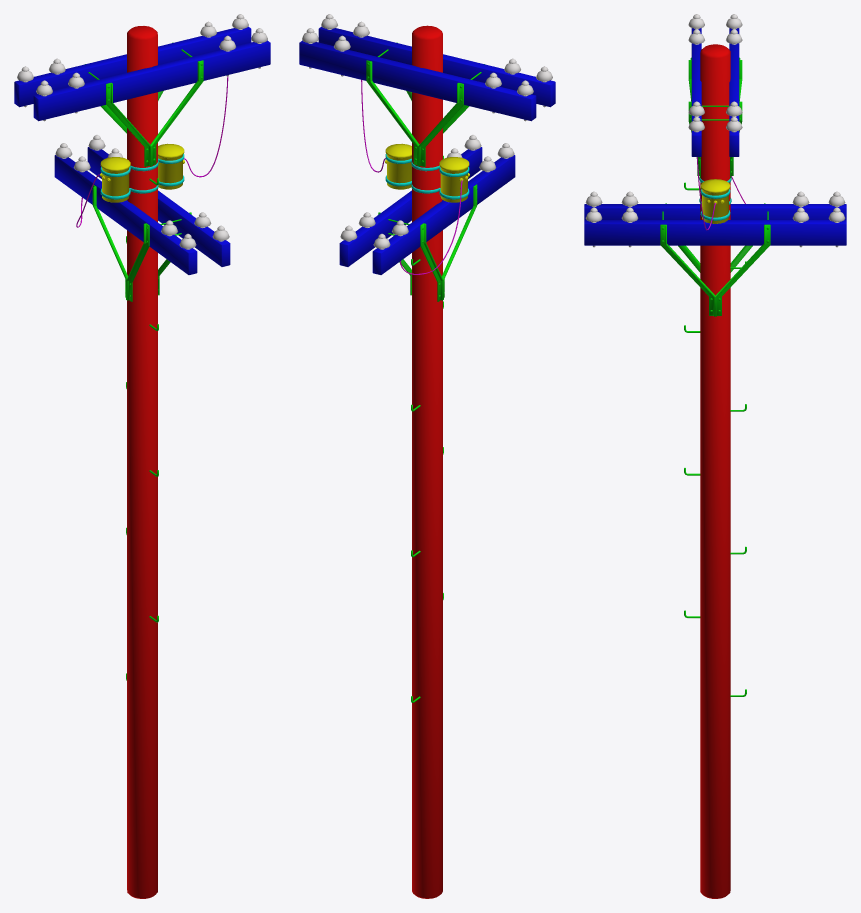
File: SM_Electric_Pole_03.FBX
3 renders of one model, left to right at view 1: azimuth 30°, elevation 25°; view 2: azimuth 150°, elevation 25°; view 3: azimuth 270°, elevation 25°, orthographic. The views are drawn at different scales.
Parts seen in each view (by area): view 1: SM_Electric_Pole_03_LOD0; view 2: SM_Electric_Pole_03_LOD0; view 3: SM_Electric_Pole_03_LOD0.
Boxes of the visible parts, x1=… form: SM_Electric_Pole_03_LOD0: x1=14, y1=14, x2=270, y2=898; SM_Electric_Pole_03_LOD0: x1=299, y1=14, x2=555, y2=898; SM_Electric_Pole_03_LOD0: x1=584, y1=14, x2=846, y2=898.
Size of what is drawn, in the model's own units: 226 by 226 by 800.
